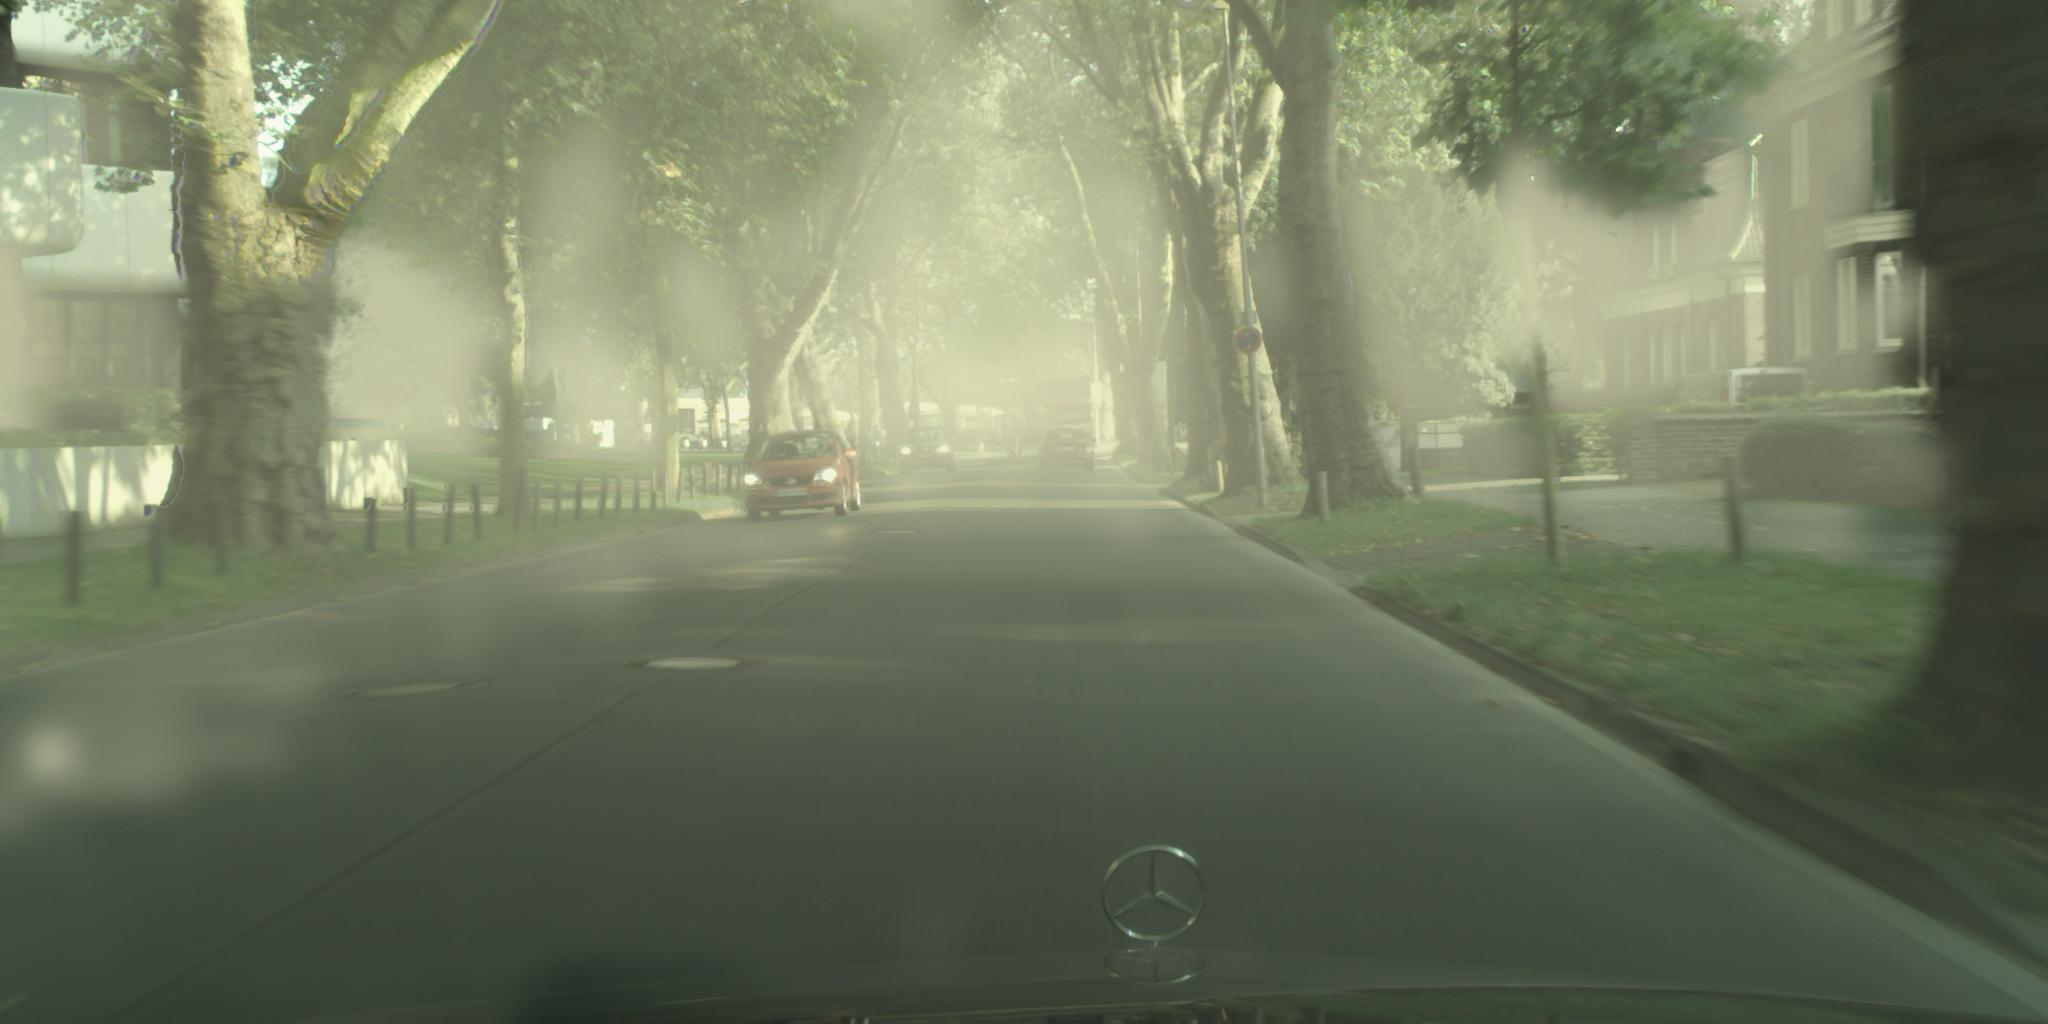bus: (1042, 374, 1097, 449)
car: (738, 430, 863, 521), (1659, 364, 1819, 410), (897, 424, 959, 478), (1036, 427, 1097, 475)
